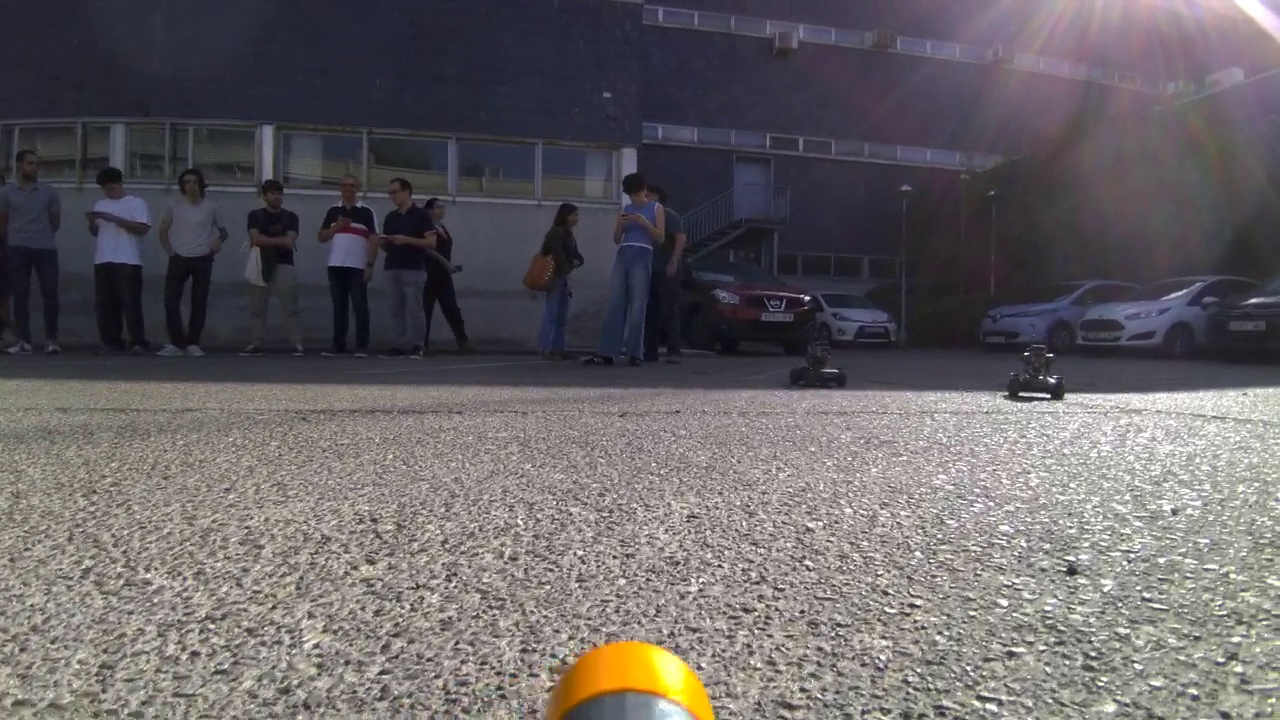robot: (1002, 337, 1069, 403), (786, 334, 849, 386)
